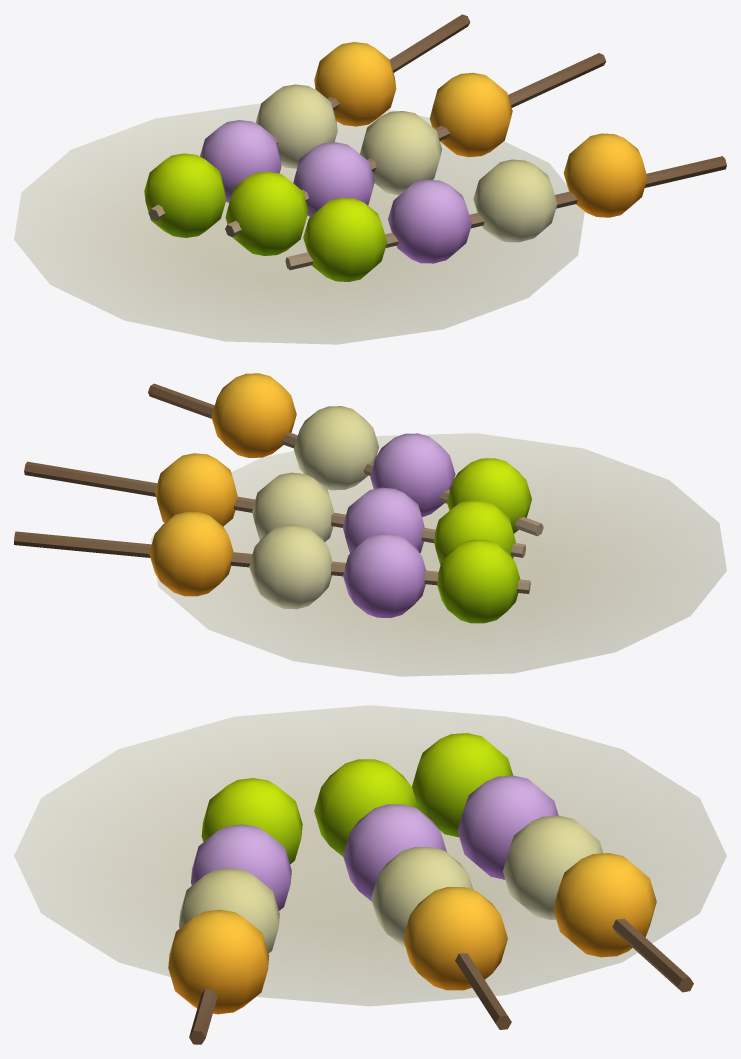
The model's file is SM_Dango.fbx.
The picture shows the model from 3 angles, top to bottom: view 1: azimuth 30°, elevation 25°; view 2: azimuth 150°, elevation 25°; view 3: azimuth 270°, elevation 25°; orthographic projection. The views are drawn at different scales.
Parts seen in each view (by area): view 1: Sphere.019; view 2: Sphere.019; view 3: Sphere.019.
Part boxes in pixels (x1,y1,x2,y2): Sphere.019: [14, 14, 726, 344]; Sphere.019: [14, 373, 726, 676]; Sphere.019: [14, 705, 726, 1044].
Bounding box in the file's own units: 81.34 × 13.2 × 66.92.
